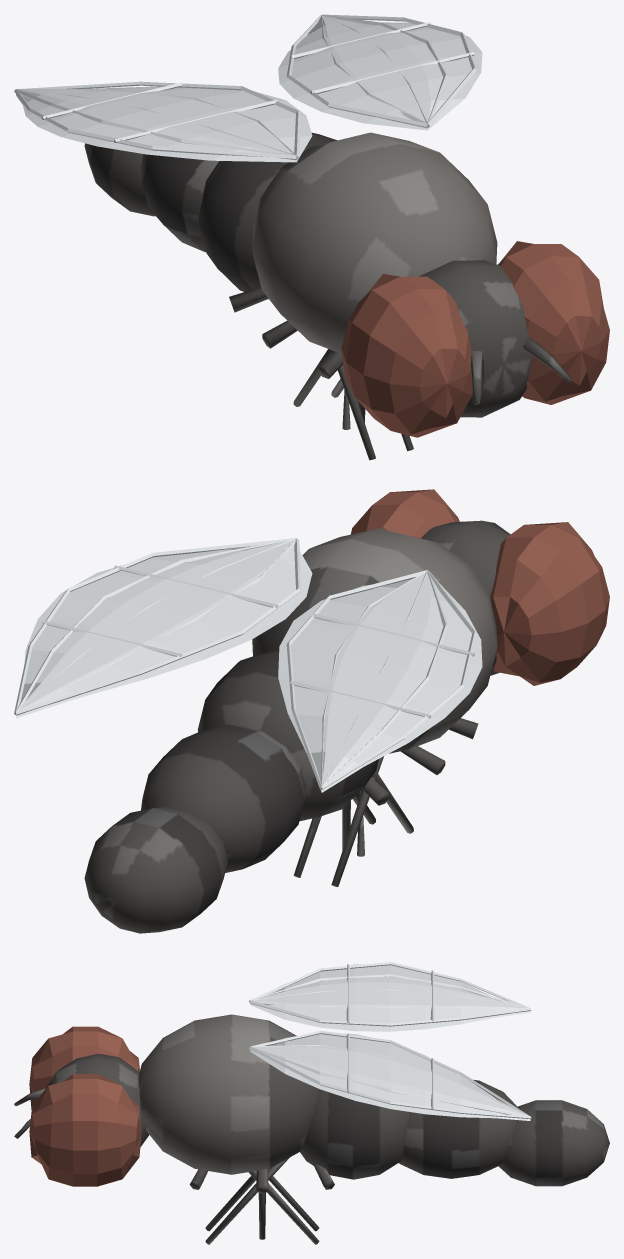
Rendered from Fliege.fbx.
3 renders of one model, top to bottom at view 1: azimuth 30°, elevation 25°; view 2: azimuth 150°, elevation 25°; view 3: azimuth 270°, elevation 25°, orthographic. The views are drawn at different scales.
Parts seen in each view (by area): view 1: Koerper, Kopf, Wing_L, Wing_R, Beine; view 2: Koerper, Wing_R, Wing_L, Kopf, Beine; view 3: Koerper, Kopf, Wing_L, Wing_R, Beine.
Part boxes in pixels (box(x1,y1,x2,y2)): Koerper: box(84, 132, 497, 353); Kopf: box(341, 241, 609, 437); Wing_L: box(14, 81, 312, 162); Wing_R: box(278, 14, 482, 130); Beine: box(229, 288, 413, 460); Koerper: box(84, 528, 497, 933); Wing_R: box(14, 538, 312, 718); Wing_L: box(278, 570, 482, 792); Kopf: box(351, 489, 609, 685); Beine: box(293, 718, 478, 886); Koerper: box(139, 1014, 609, 1186); Kopf: box(14, 1026, 148, 1186); Wing_L: box(249, 962, 531, 1031); Wing_R: box(249, 1030, 531, 1120); Beine: box(189, 1157, 334, 1244).
Size of the model in its own units: 0.0281 by 0.0194 by 0.0489.
Materials: 3 (1 with a texture image).
